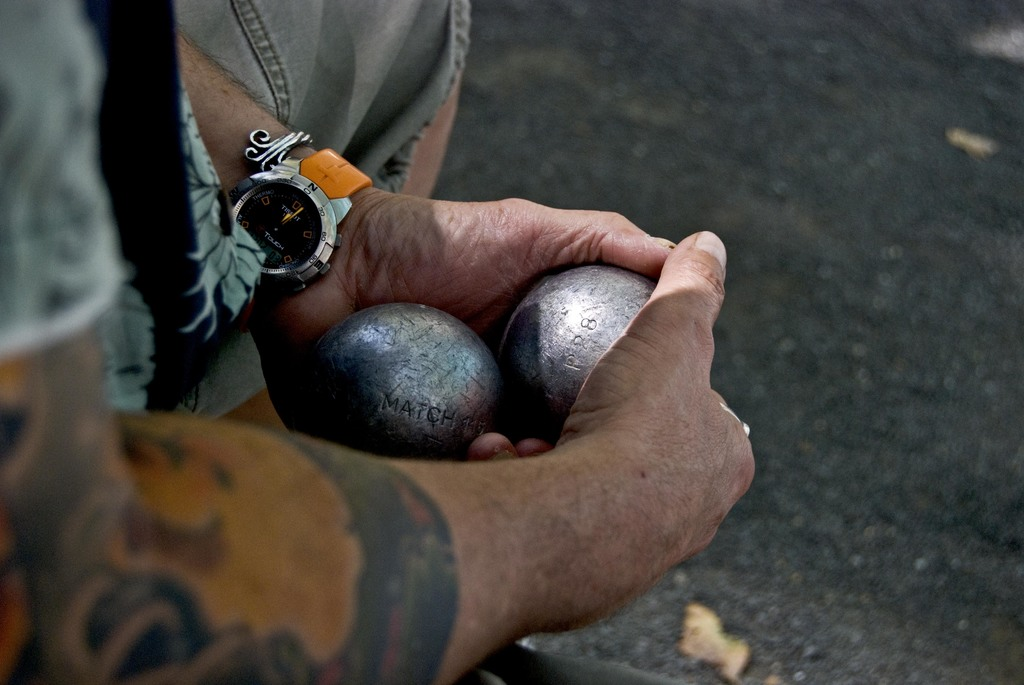Ball: (312, 298, 504, 466), (497, 267, 667, 455)
